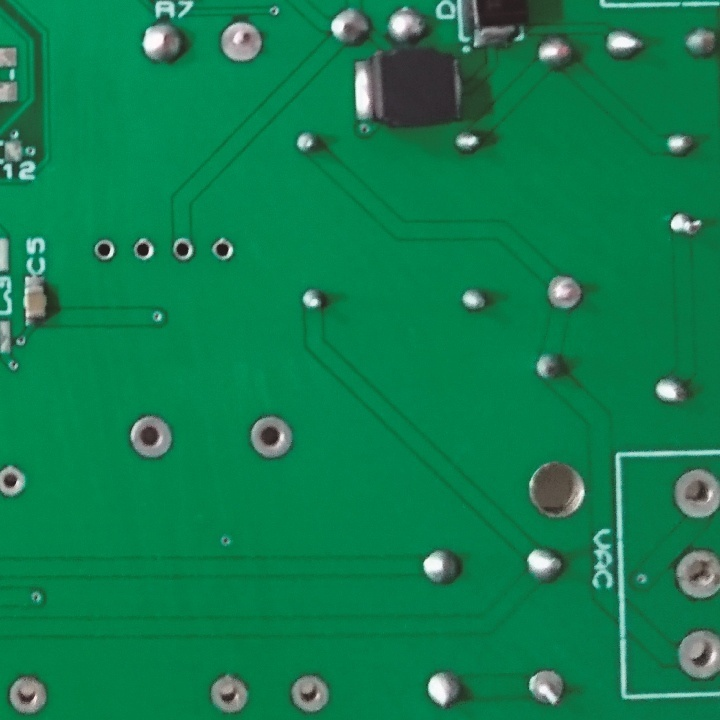F: (670, 464, 720, 518), (675, 548, 720, 603), (127, 414, 176, 463), (247, 411, 296, 460), (676, 627, 720, 681), (219, 18, 267, 65), (287, 669, 333, 716), (6, 669, 49, 718), (526, 667, 571, 713), (207, 671, 251, 715), (543, 271, 583, 315), (1, 460, 31, 508), (207, 234, 235, 263), (170, 235, 196, 264), (92, 235, 116, 263), (133, 234, 156, 263)
